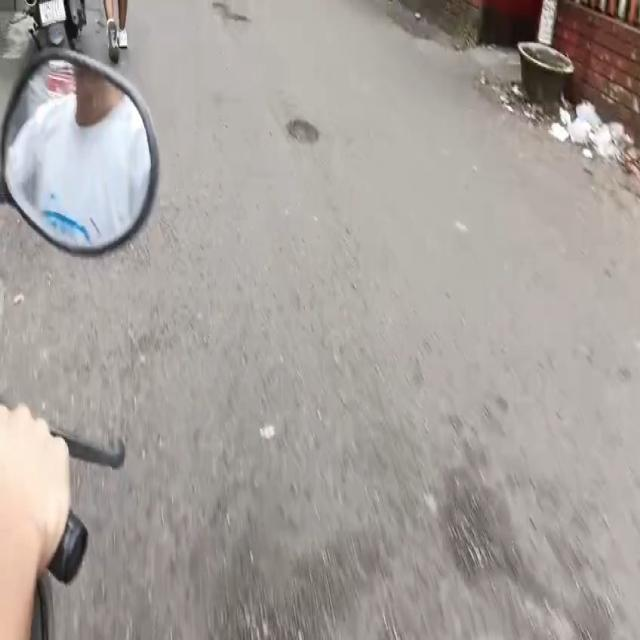road-pothole: (445, 465, 523, 585), (212, 0, 251, 33), (285, 117, 319, 147)
